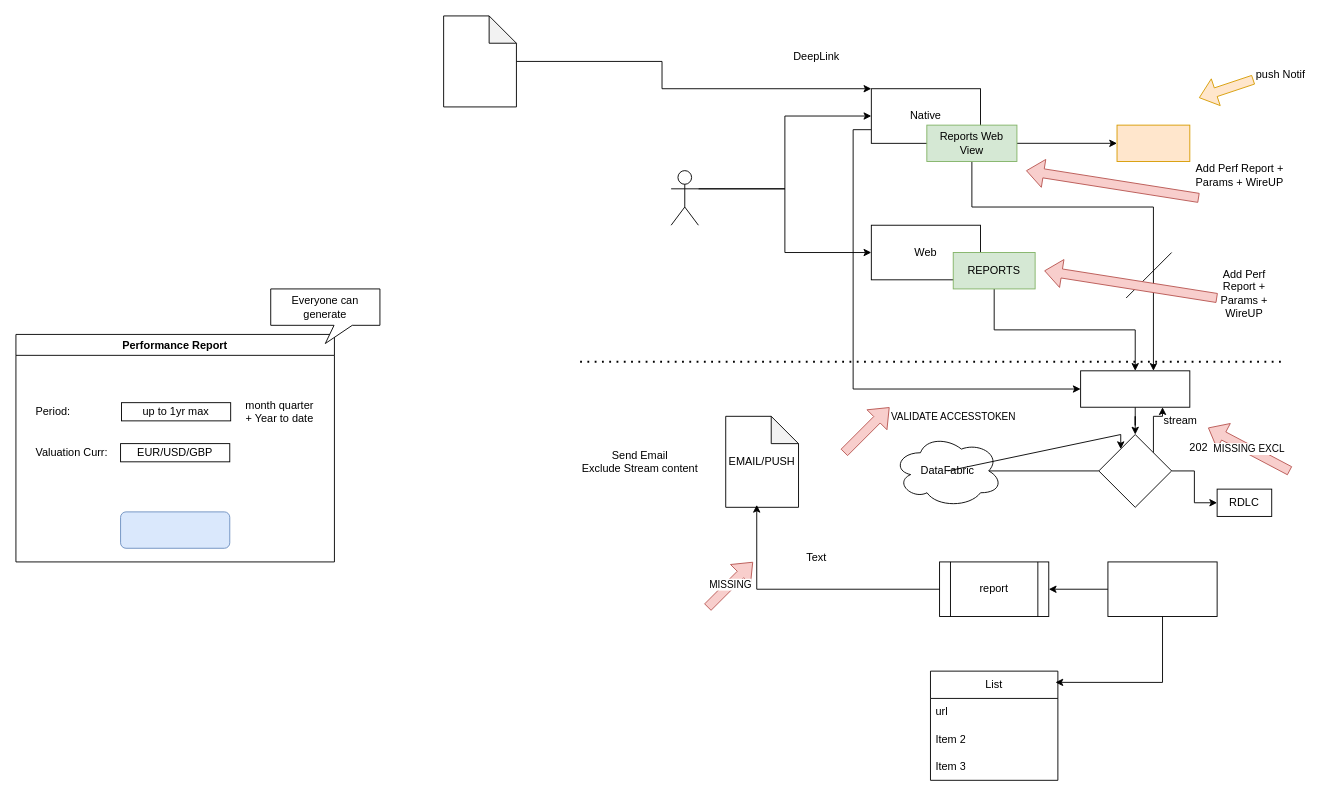
The diagram is 1333 pixels wide and 796 high, and some of its shapes have lost their labels. The shapes that lost their labels are listed below. From the top down, each one's centre as x and y in pixels, then its label:
At point (479, 61): "DL".
At point (1153, 143): "Native REPORTS".
At point (684, 197): "Customer".
At point (1135, 388): "FS.Reporting.API".
At point (1135, 470): "if PerfReport".
At point (175, 529): "Create Report".
At point (1162, 589): "Daemon".
